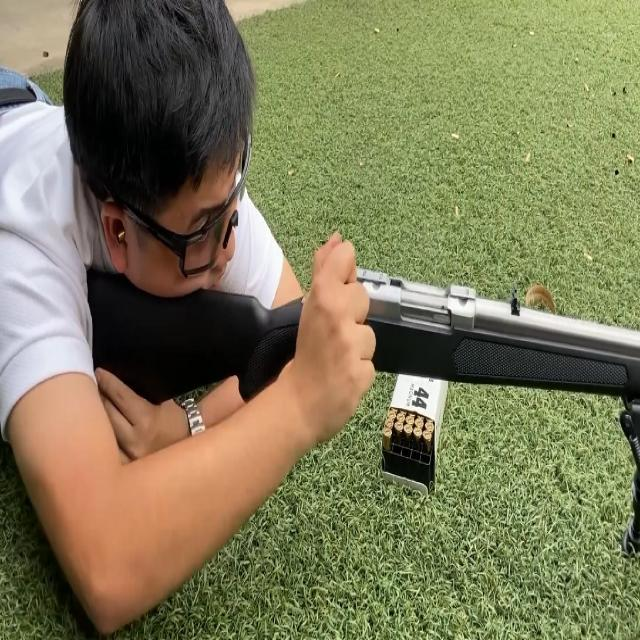rifle: (85, 230, 640, 558)
